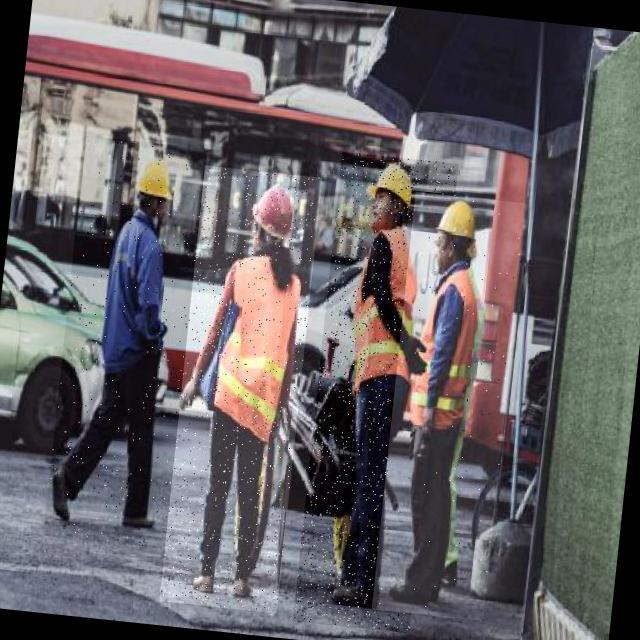Gloves: (396, 325, 429, 379), (174, 369, 206, 415)
Helmet: (248, 183, 298, 242), (366, 162, 414, 209), (134, 158, 176, 201), (437, 199, 480, 240)
Person: (35, 140, 188, 611), (175, 165, 312, 606), (326, 149, 423, 597), (428, 154, 509, 609)
Safety Boot: (43, 466, 81, 525), (331, 580, 381, 611), (388, 582, 437, 608), (116, 510, 160, 532), (190, 573, 216, 595), (230, 578, 254, 601)
Safety Vest: (208, 253, 304, 445), (345, 223, 426, 404), (407, 263, 493, 432)
no-vest: (98, 206, 171, 376)
